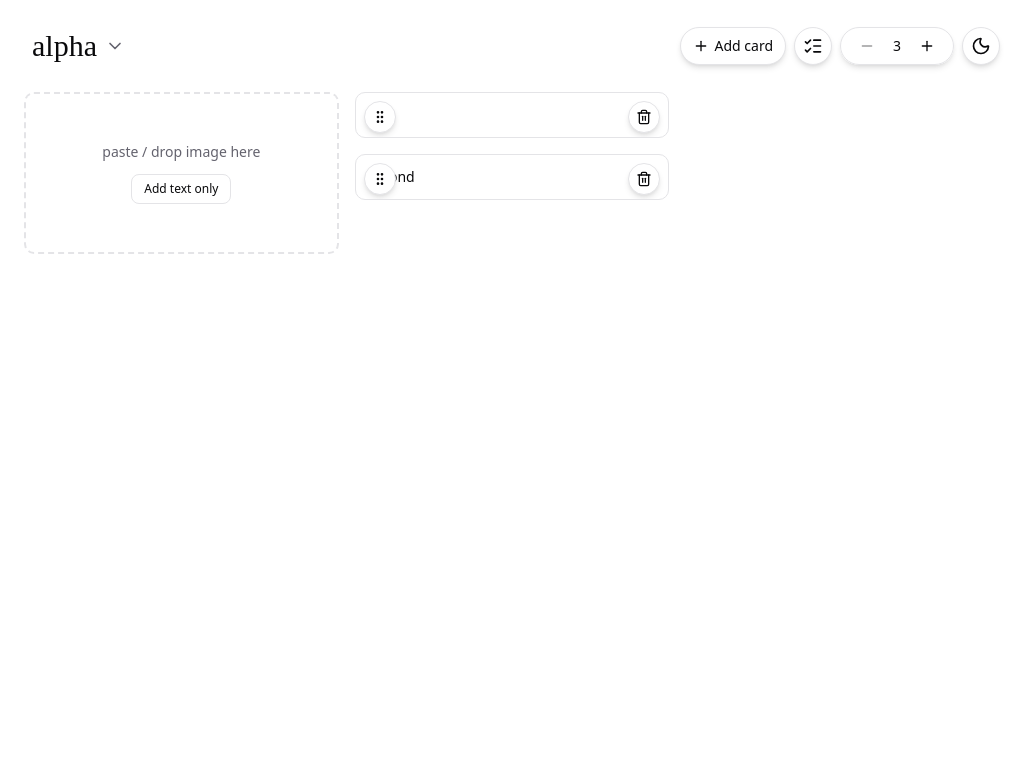
Scenario: the cards › deleting an item › deletes the item by its key when confirmed, then shows the brand again without it
Expected: the button with aria-label "Brand" reads "alpha", top-left (24, 24), bottom-right (133, 68)
Click the button named "Delete first" at (644,117), box top-left (628, 101), bottom-right (660, 133)
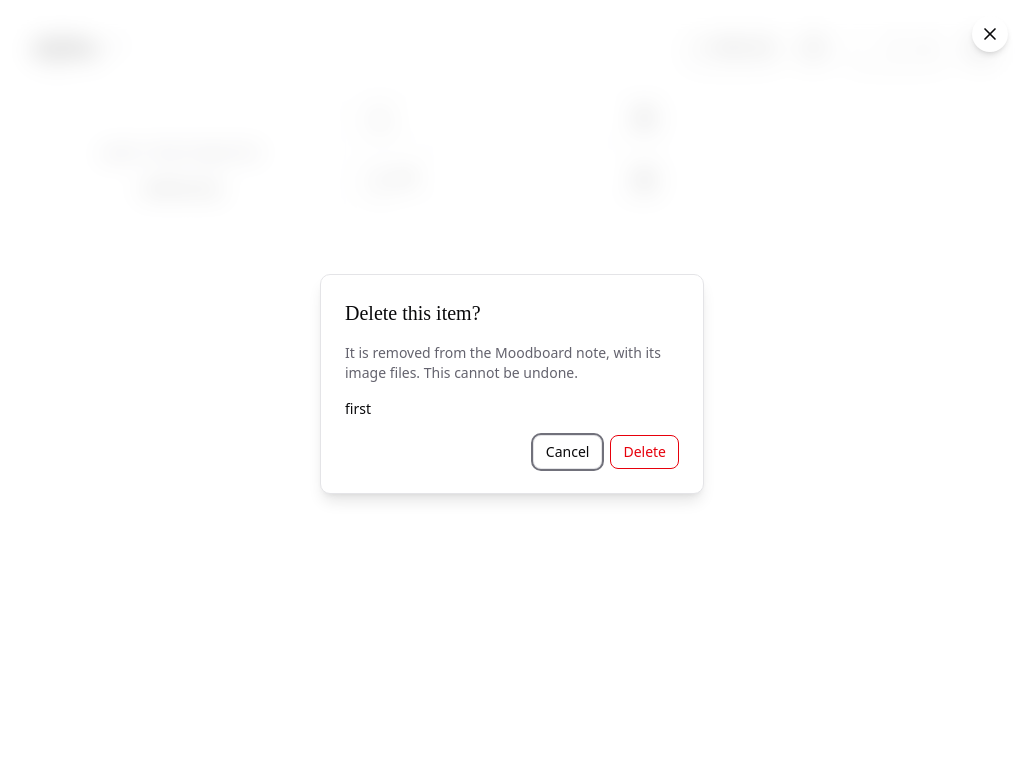
Click the button "Delete" at (645,452), box top-left (610, 435), bottom-right (679, 469)
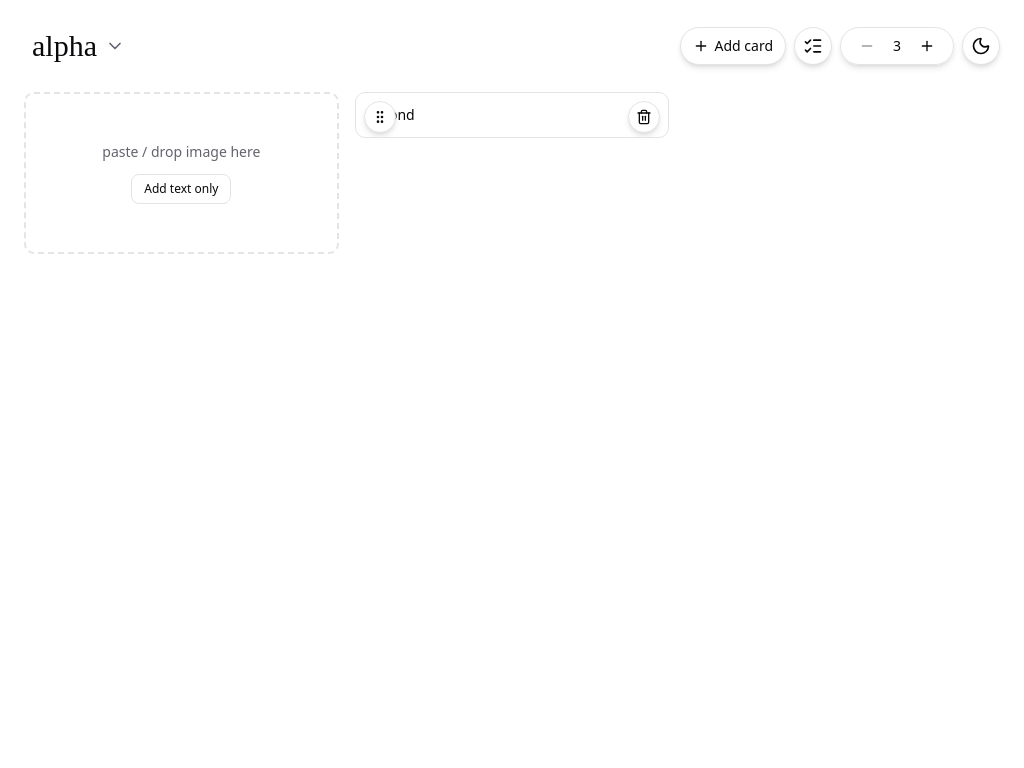
Expected: the text "second" is shown, top-left (368, 105), bottom-right (415, 124)
Now the text "first" is gone
Now the dialog is gone
